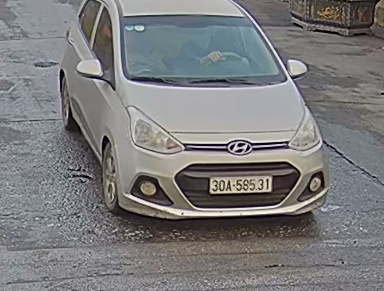vehicle plate: (204, 172, 276, 197)
